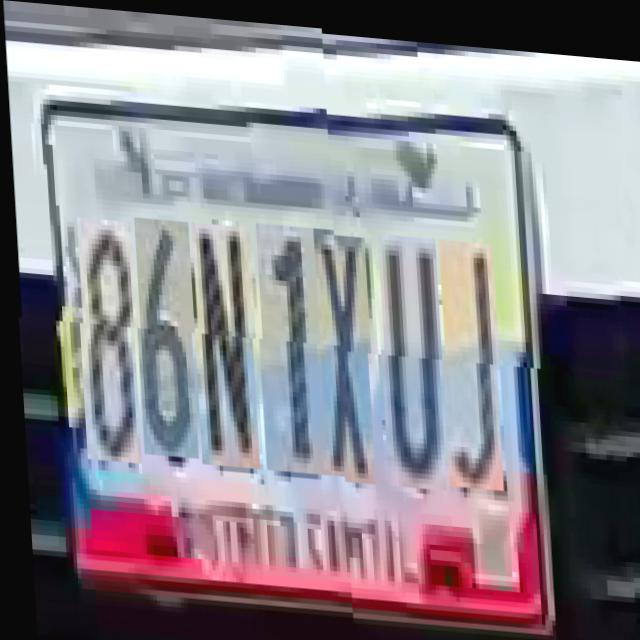1: (254, 223, 322, 474)
6: (132, 220, 197, 461)
8: (74, 221, 140, 467)
J: (436, 231, 502, 482)
N: (190, 224, 258, 470)
U: (376, 227, 444, 483)
X: (311, 227, 374, 478)
